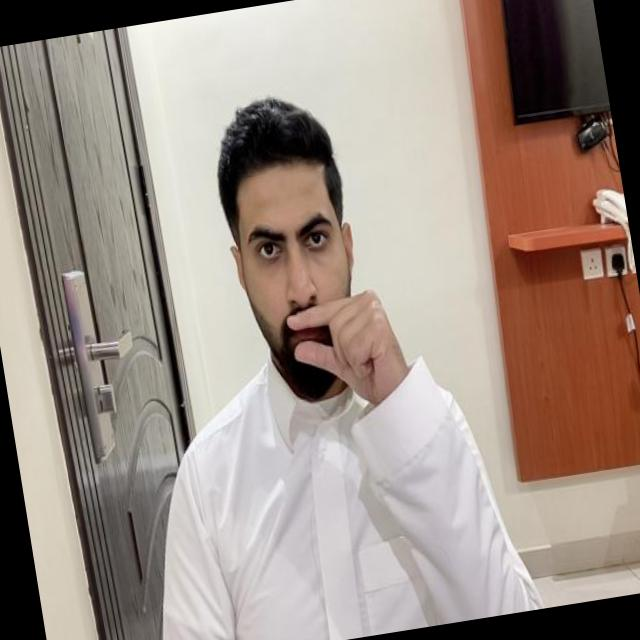fasting: (282, 283, 413, 416)
